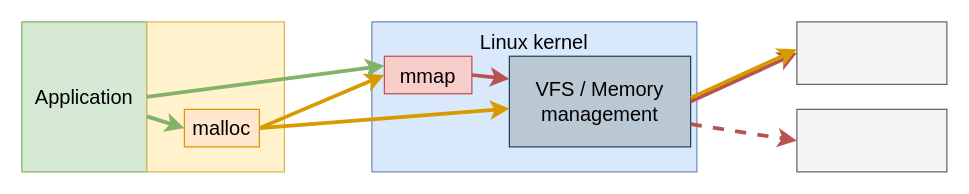
Some shapes in this 969 by 194 pixel diagram are drawn without their labels. The shapes that lost their labels are listed below. From the top down, each one's box as (x1, y1, x2, y2) in pixels, then its label:
(796, 21, 947, 84): RAM
(146, 21, 284, 172): glibc
(796, 108, 947, 172): block device (disk)
